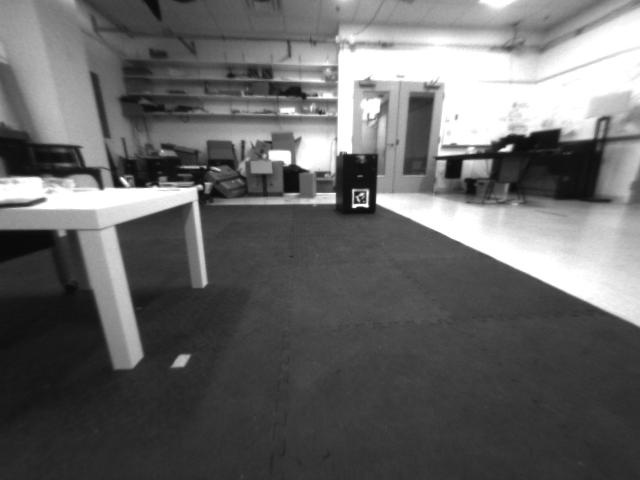door_handle: (383, 140, 395, 151)
drawer: (354, 151, 370, 168)
